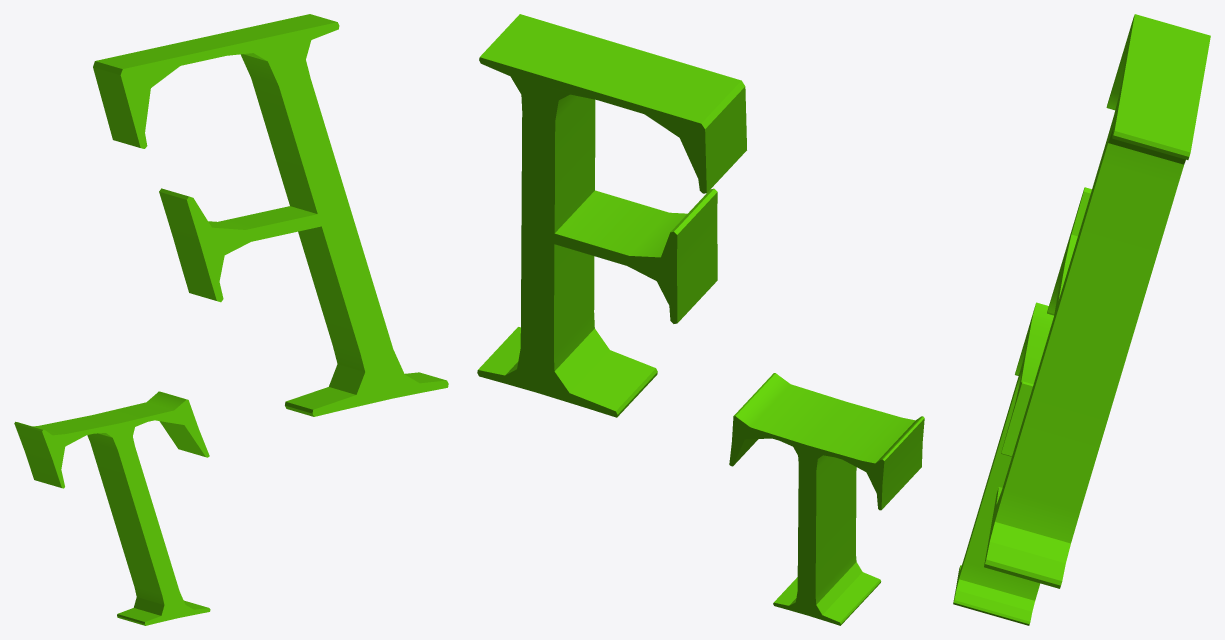
The model's file is Ft_formula_B.fbx.
3 renders of one model, left to right at view 1: azimuth 30°, elevation 25°; view 2: azimuth 150°, elevation 25°; view 3: azimuth 270°, elevation 25°, orthographic. The views are drawn at different scales.
Visible parts, largest first — view 1: Ft_formula_B; view 2: Ft_formula_B; view 3: Ft_formula_B.
Boxes of the visible parts, x1,y1,x2,y2 form: Ft_formula_B: [14, 14, 448, 625]; Ft_formula_B: [477, 14, 924, 625]; Ft_formula_B: [953, 14, 1210, 625].
Size of the model in its own units: 3.05 by 3.82 by 1.47.
